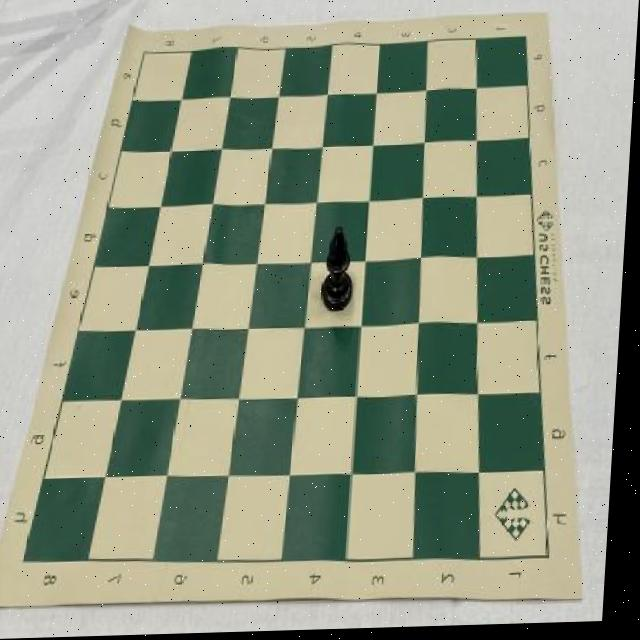bishop: (324, 227, 362, 315)
